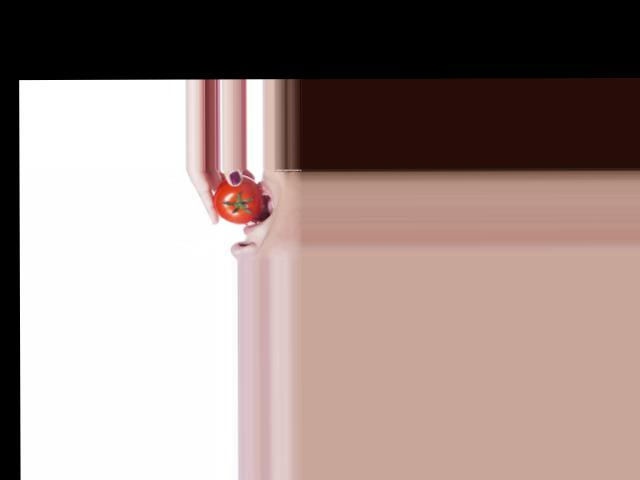tomato: (212, 174, 262, 223)
